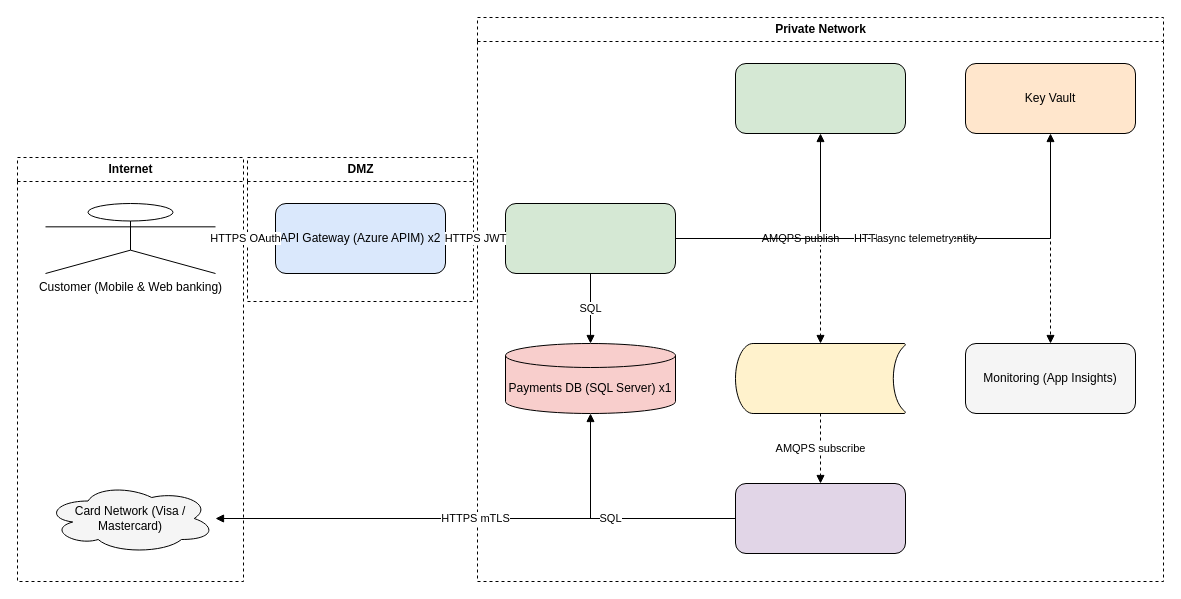
The diagram is 1181 pixels wide and 599 high, and some of its shapes have lost their labels. The centre of each missing label's shape, as x and y in pixels:
Fraud Service (Python) x1: (x=820, y=98)
Payments API (.NET) x2: (x=590, y=238)
Settlement Queue (Service Bus): (x=820, y=378)
Settlement Worker x1: (x=820, y=518)
